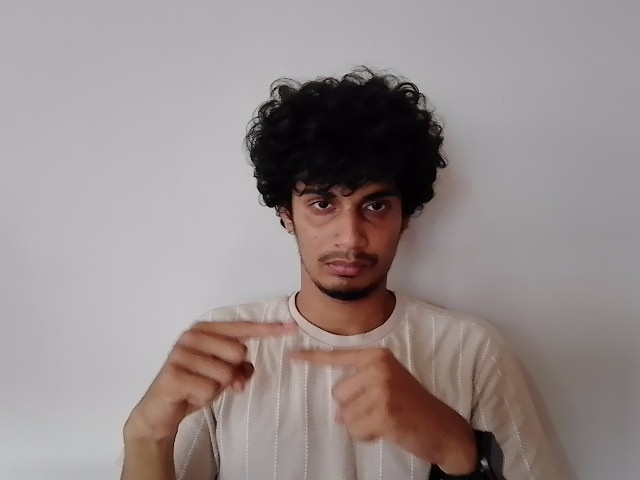about: (127, 318, 457, 458)
